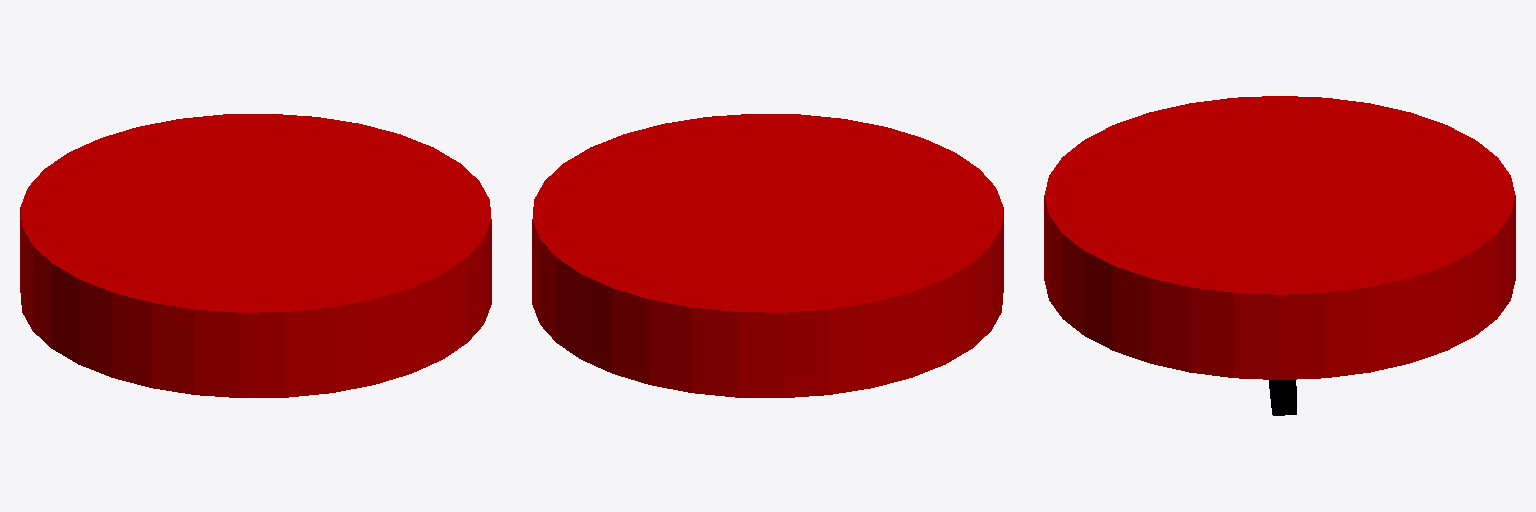
The robot description file, URDF, robot "marrwy":
<?xml version="1.0"?>
<robot name="marrwy">

    <material name="blue">
       <color rgba="0 0 0.8 1"/>
    </material>
  
    <material name="white">
      <color rgba="1 1 1 1"/>
    </material>

    <material name="red">
      <color rgba="0.8 0.0 0.0 1.0"/>
    </material>

    <material name="green">
      <color rgba="0.0 0.8 0.0 1.0"/>
   </material>

	<link name="base_link">
   		<visual>
     	 <geometry>
             <cylinder length="0.1" radius="0.25"/> 
        </geometry>
		<origin rpy="0 0 0" xyz="0 0 0.05"/>
			<material name="red"/>
   		</visual>
      <!--
		<collision>
			<geometry>
       		  <cylinder length="0.2" radius="0.4"/> 
			</geometry>
		</collision>
		<inertial>
			<mass value="100"/>
	 		<inertia ixx="1.0" ixy="0.0" ixz="0.0" iyy="1.0" iyz="0.0" izz="1.0"/>
		</inertial> -->
 	</link>

 	<link name="wheel_1">
   		<visual>
     		<geometry>
       			<cylinder length="0.025" radius="0.08"/>
     		</geometry>
			<origin rpy="0 1.5 1.57" xyz="0.15 0.30 0"/>
   			<material name="black">
				<color rgba="0 0 0 1"/>
			</material>
		</visual>
    <!--
		<collision>
			<geometry>
       				<cylinder length="0.025" radius="0.08"/>
			</geometry>
		</collision>
		<inertial>
			<mass value="10"/>
	 		<inertia ixx="1.0" ixy="0.0" ixz="0.0" iyy="1.0" iyz="0.0" izz="1.0"/>
		</inertial> -->
 	</link>

 	<link name="wheel_2">
   		<visual>
     			<geometry>
       				<cylinder length="0.025" radius="0.08"/>
     			</geometry>
			<origin rpy="0 1.5 1.57" xyz="0.15 -0.30 0"/>
   			<material name="black"/>
   		</visual>
		<collision>
			<geometry>
       				<cylinder length="0.025" radius="0.08"/>
			</geometry>
		</collision>
		<inertial>
			<mass value="10"/>
	 		<inertia ixx="1.0" ixy="0.0" ixz="0.0" iyy="1.0" iyz="0.0" izz="1.0"/>
		</inertial>

 	</link>
    
 	


 	<joint name="base_to_wheel1" type="fixed">
   		<parent link="base_link"/>
   		<child link="wheel_1"/>
   		<origin xyz="0 -0.30 0"/>
 	</joint>

 	<joint name="base_to_wheel2" type="fixed">
   		<parent link="base_link"/>
   		<child link="wheel_2"/>
   		<origin xyz="0 0.30 0"/>
 	</joint>

 	

</robot>

--- What the picture shows (computed from the rendered views, not written in the file) ---
Views: 3 orthographic renders of the robot side by side, from view 1: azimuth 30°, elevation 25°; view 2: azimuth 150°, elevation 25°; view 3: azimuth 270°, elevation 25°.
Robot: marrwy — 3 links, 2 joints (2 fixed); root link base_link; default pose: all joints at 0.
Visible links, largest first — view 1: base_link; view 2: base_link; view 3: base_link, wheel_1.
Link boxes in pixels (x1,y1,x2,y2): base_link: (20,114,491,397); base_link: (532,114,1003,397); base_link: (1044,96,1515,379); wheel_1: (1269,380,1296,415).
Bounding box of the posed robot: 0.5 × 0.5 × 0.1807 m (x, y, z).
Geometry: primitives only (box / cylinder / sphere), no mesh files.
